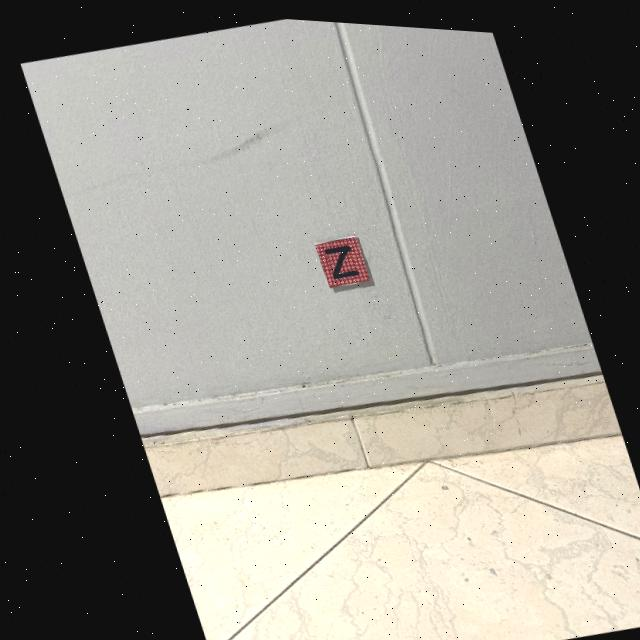Z: (321, 241, 353, 275)
